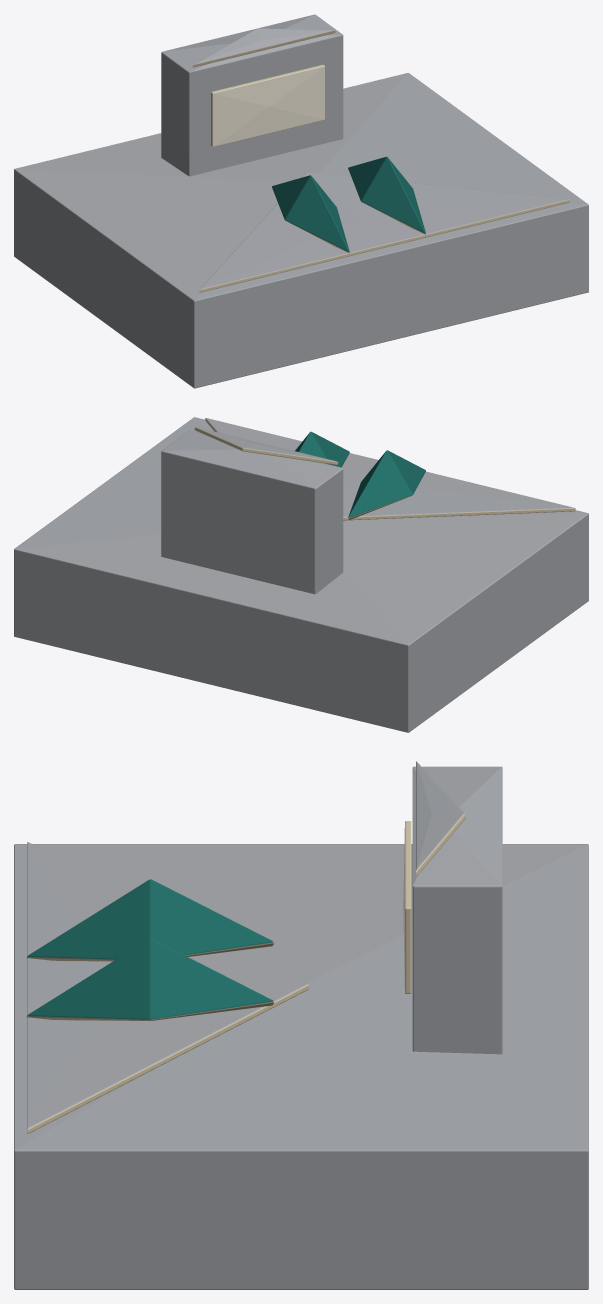
Rendered from achievement-silver-badge.glb.
3 views of the same model, one above another, from view 1: azimuth 30°, elevation 25°; view 2: azimuth 150°, elevation 25°; view 3: azimuth 270°, elevation 25° (orthographic). The views are drawn at different scales.
Parts seen in each view (by area): view 1: achievement-silver-badge; view 2: achievement-silver-badge; view 3: achievement-silver-badge.
Part boxes in pixels (x1,y1,x2,y2): achievement-silver-badge: [14, 14, 588, 388]; achievement-silver-badge: [14, 417, 588, 732]; achievement-silver-badge: [14, 761, 588, 1289].
Bounding box in the file's own units: 1.35 × 0.6748 × 1.07.
